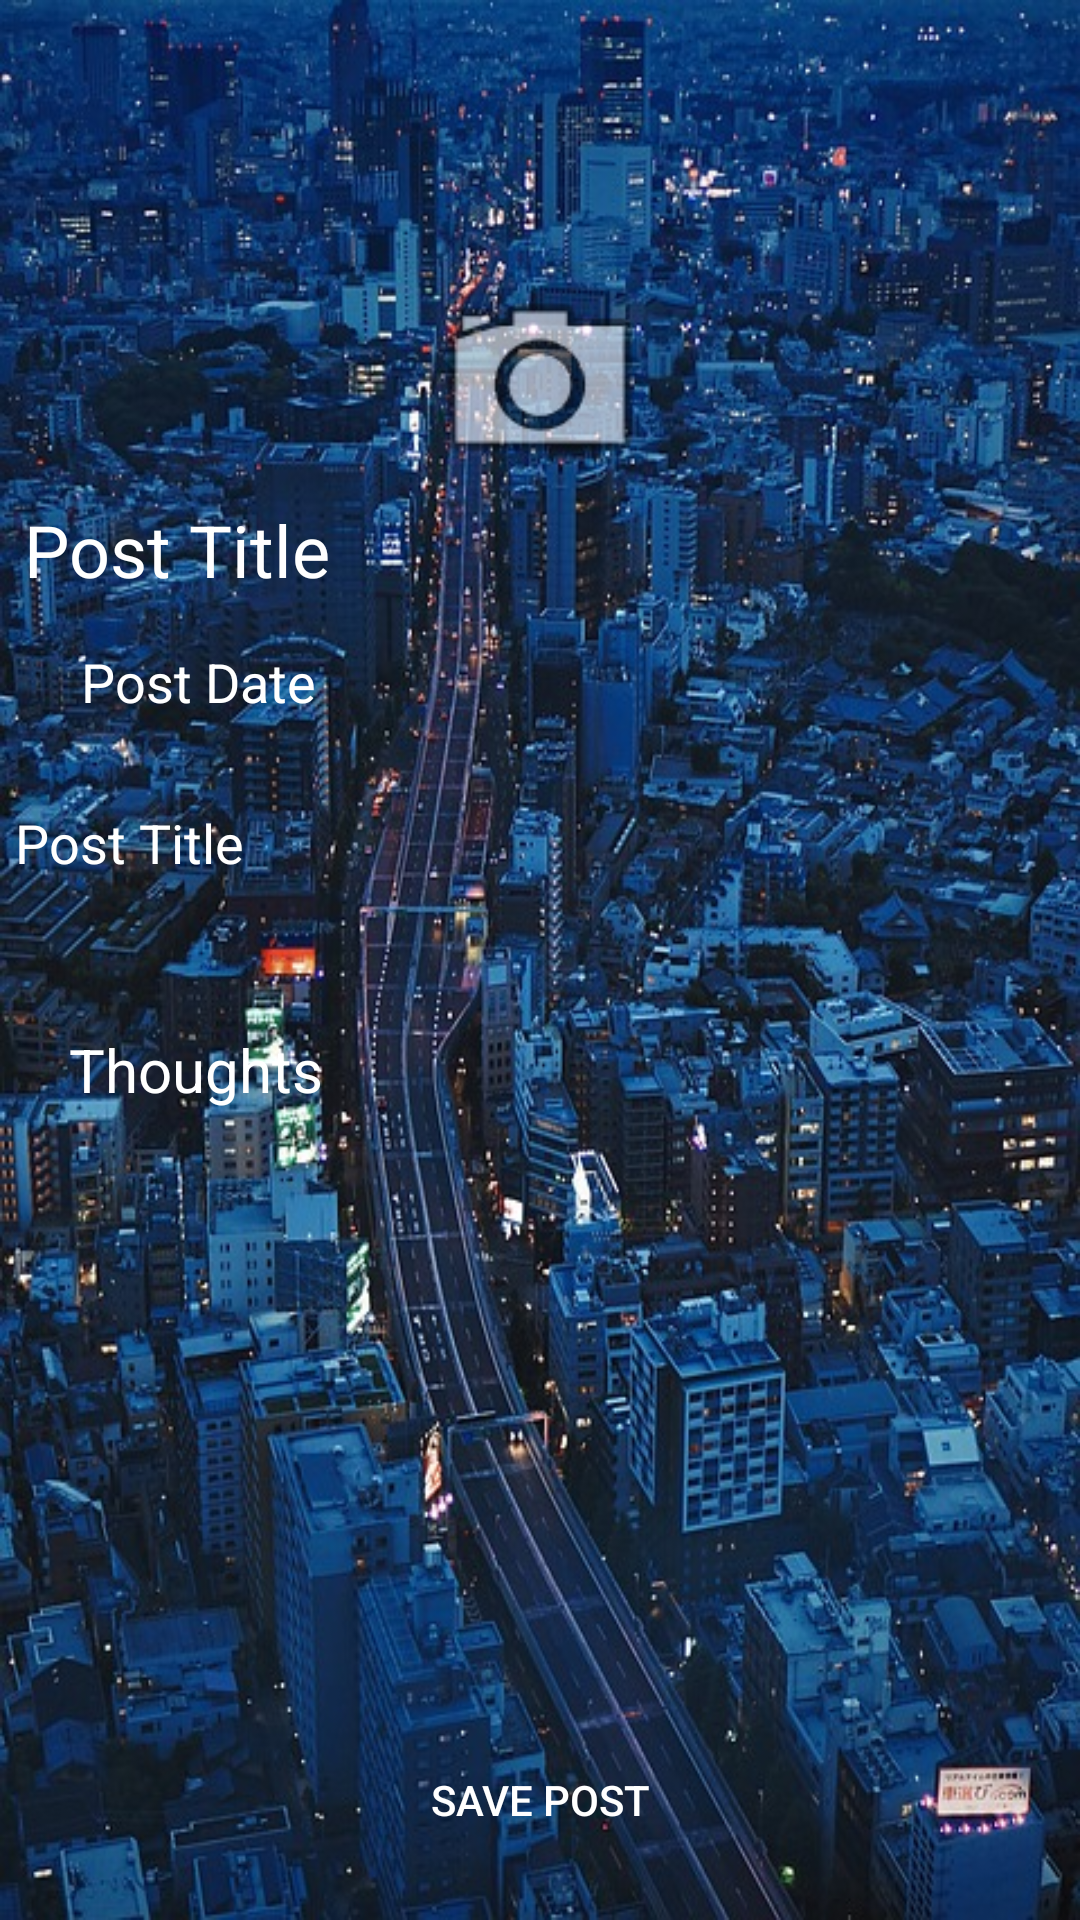

Point at icon controls on the screen. Image size 1080 × 1920, points as (x=x, y=y).
camera: (x=540, y=381)
